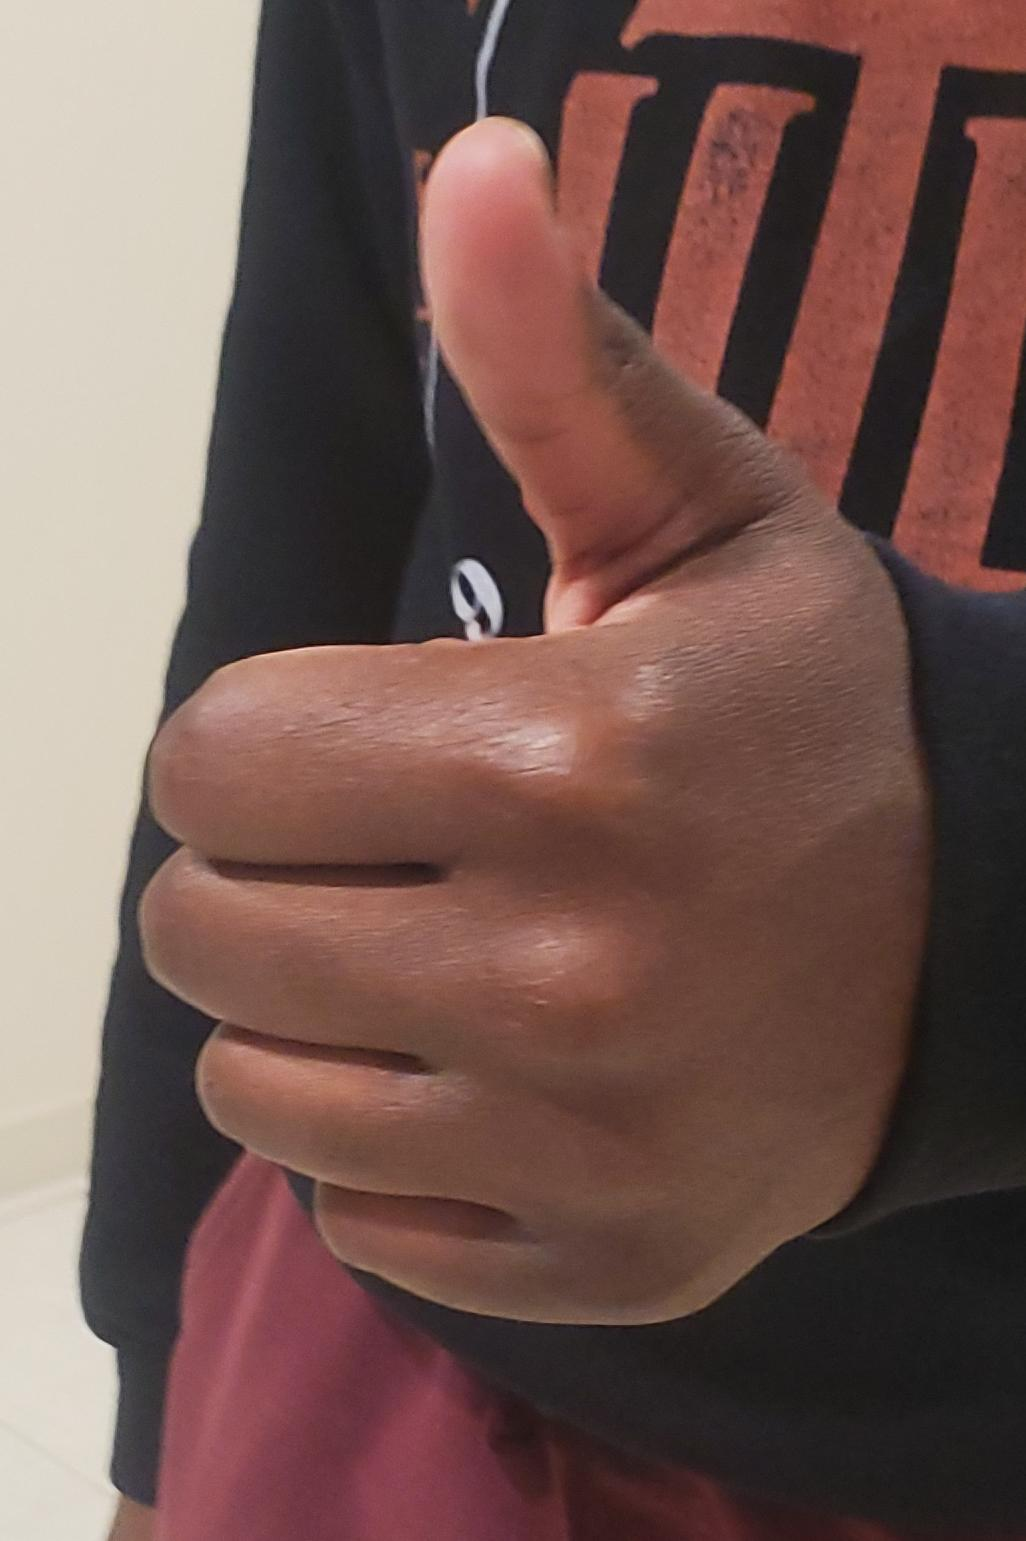up: (0, 1, 1026, 1541)
